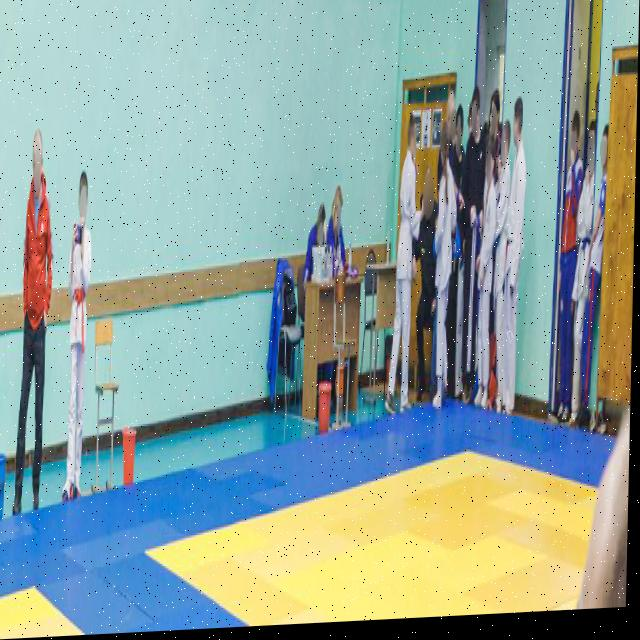Person: (17, 119, 59, 510), (60, 161, 99, 523), (577, 113, 616, 440), (391, 100, 420, 435), (504, 88, 531, 433), (571, 116, 599, 447), (557, 114, 580, 434), (490, 117, 512, 437), (475, 134, 497, 426), (415, 166, 442, 396), (463, 91, 485, 356), (448, 94, 465, 414), (297, 208, 328, 296), (328, 184, 352, 285), (490, 97, 505, 155)
